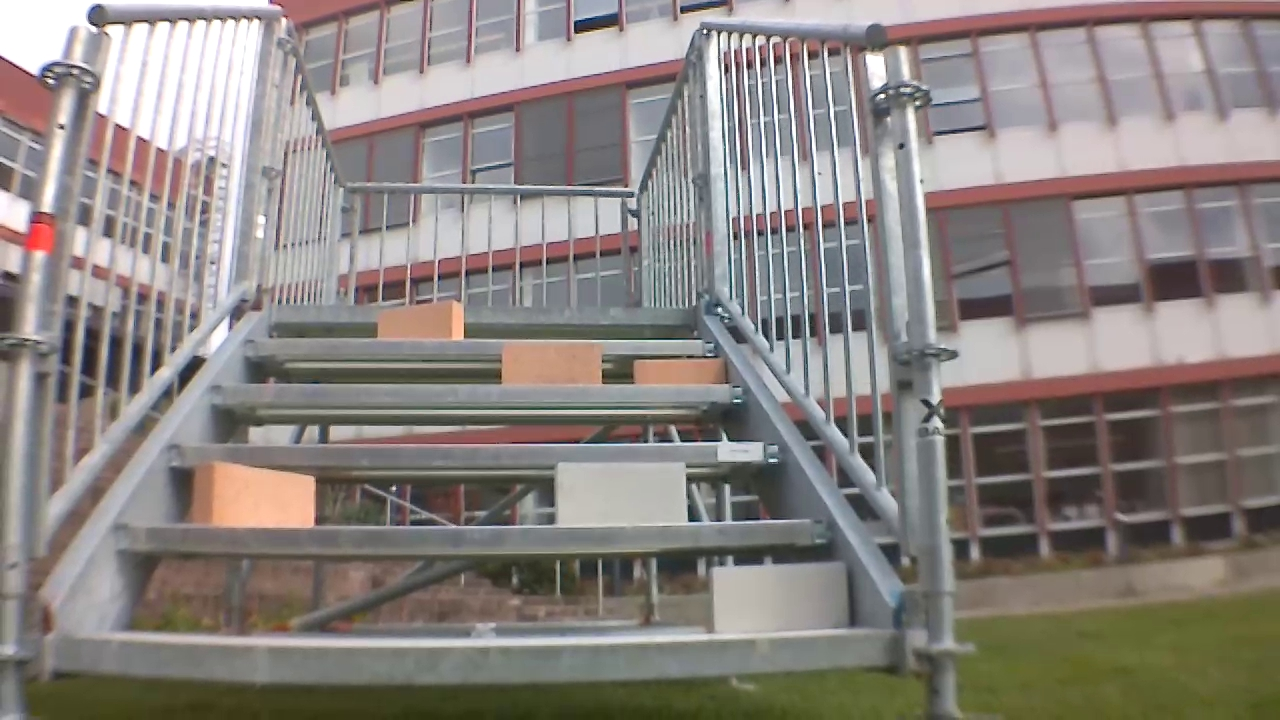brick: (711, 562, 847, 634), (553, 462, 685, 524), (192, 461, 315, 526), (503, 342, 602, 384), (376, 300, 463, 340), (634, 358, 722, 384)
edge: (51, 631, 894, 685), (116, 522, 829, 554), (169, 444, 783, 466), (212, 383, 747, 404), (245, 337, 716, 359), (275, 304, 692, 325)
stairs: (4, 5, 977, 717)
steps: (45, 299, 903, 695)
